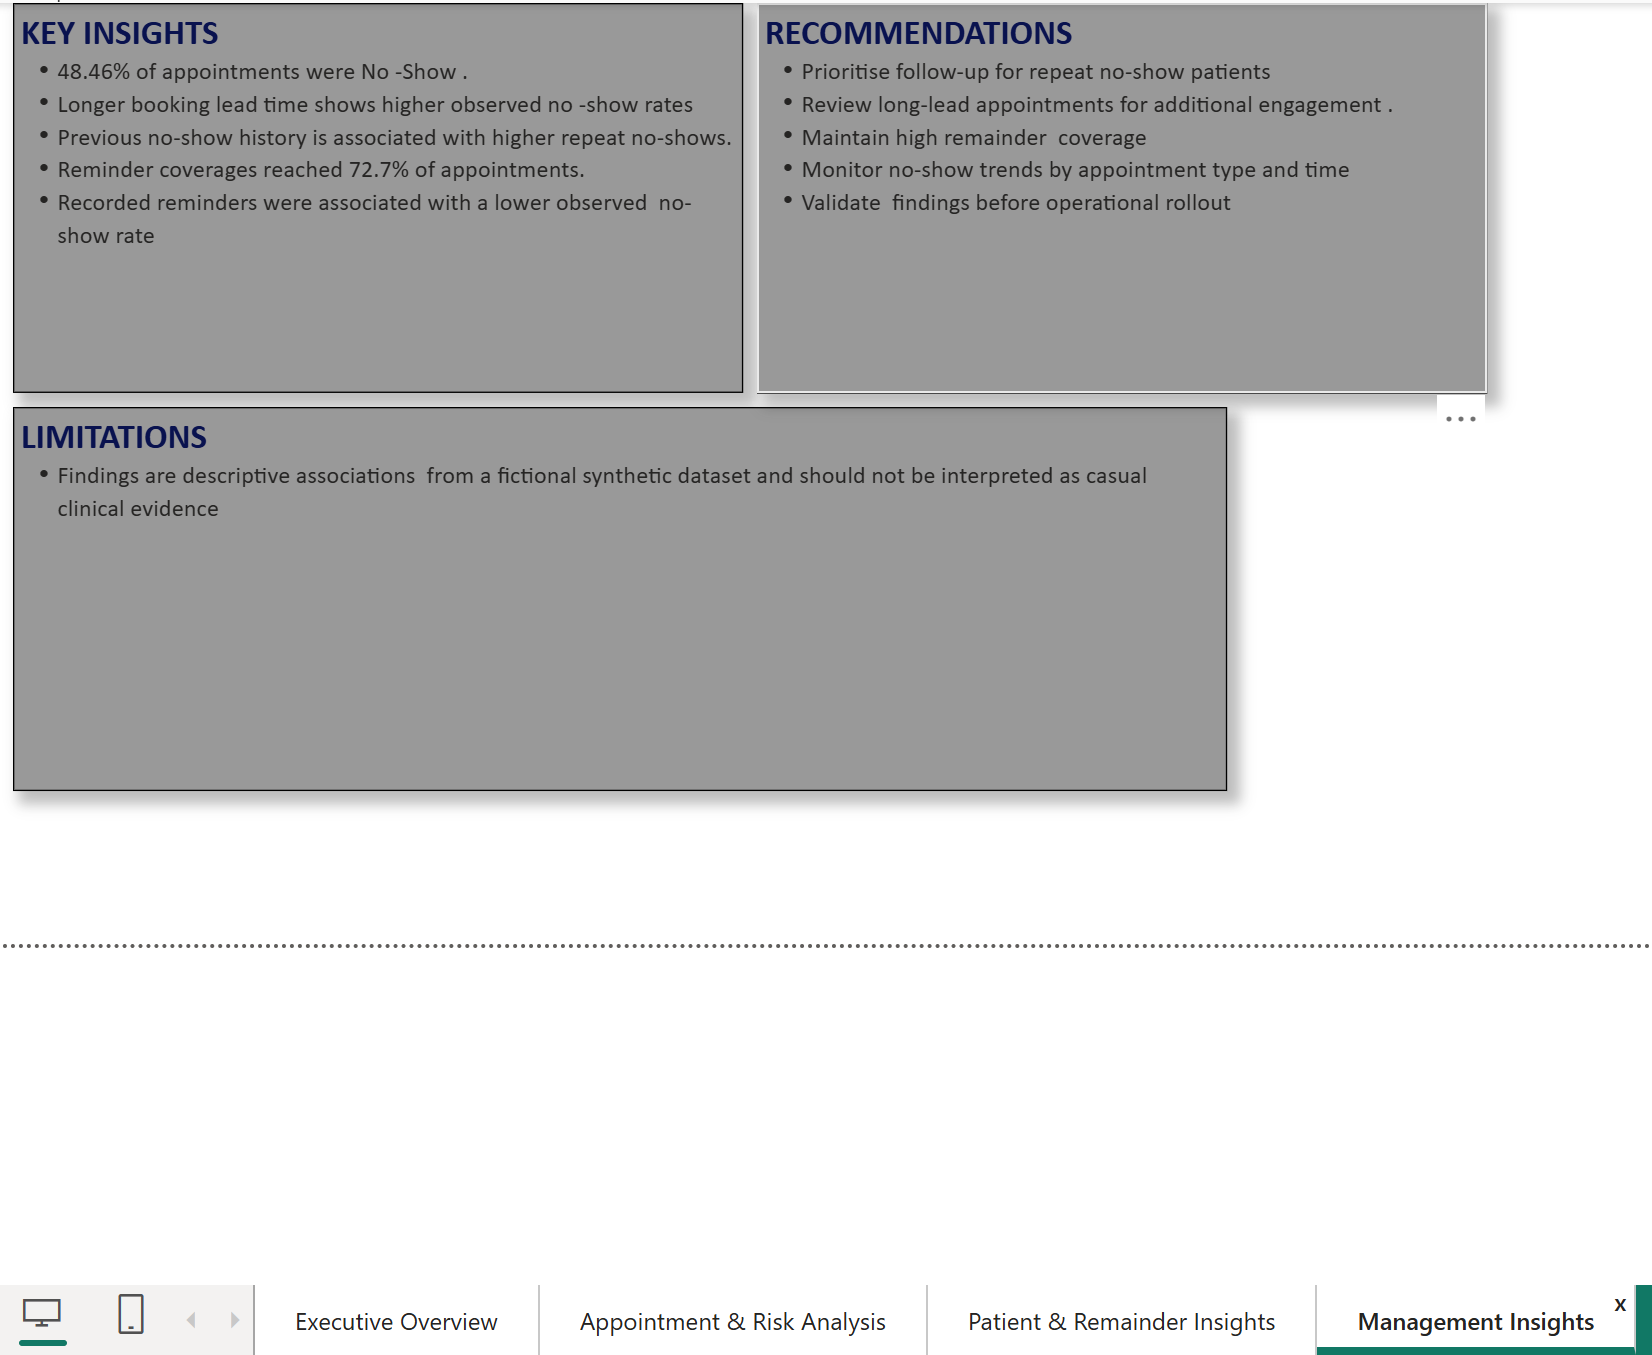

What the dashboard file says about the page in this screenshot:
{"tool":"powerbi","page":{"name":"Management Insights ","canvas":[1280,720],"ordinal":3},"visuals":[{"type":"textbox","box":[10.7,0,558.9,298.6],"z":0},{"type":"textbox","box":[10.7,309.3,929.4,294],"z":1000},{"type":"textbox","box":[580,0,559,299],"z":2000}]}

Visuals, with their boxes in screenshot pixels (x1, y1, x2, y2):
textbox: BBox(10, 0, 747, 390)
textbox: BBox(10, 404, 1236, 792)
textbox: BBox(761, 0, 1499, 390)
